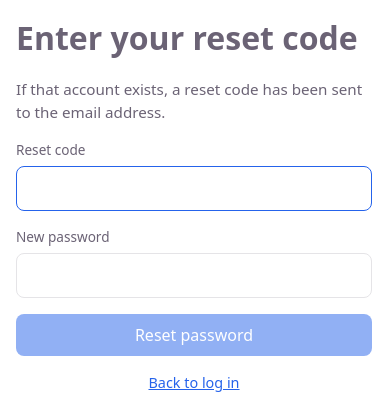
ResetPasswordScreenContainer › confirms the reset and shows the success message
The image size is (389, 409).
Type "123456" into the field labelled "Reset code".
click(194, 188); type("123456")  # box [16, 166, 372, 211]
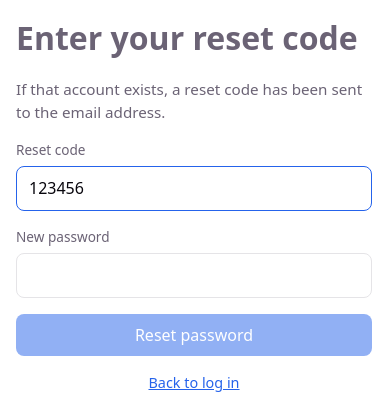
Type "new-secret" into the password field labelled "New password".
click(194, 275); type("new-secret")  # box [16, 253, 372, 298]
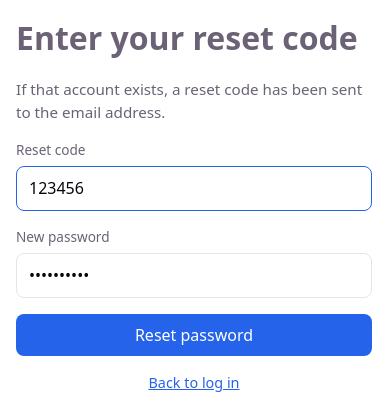
Click the button "Reset password".
click(194, 335)  # box [16, 314, 372, 356]
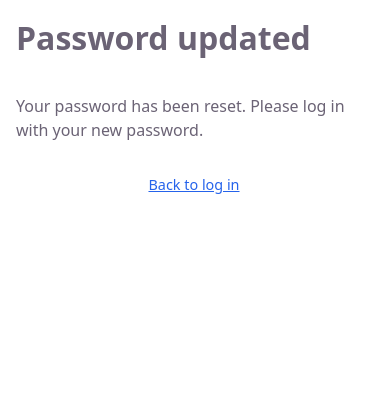
Expected: the heading "Password updated" is shown, [16, 16, 311, 59]
